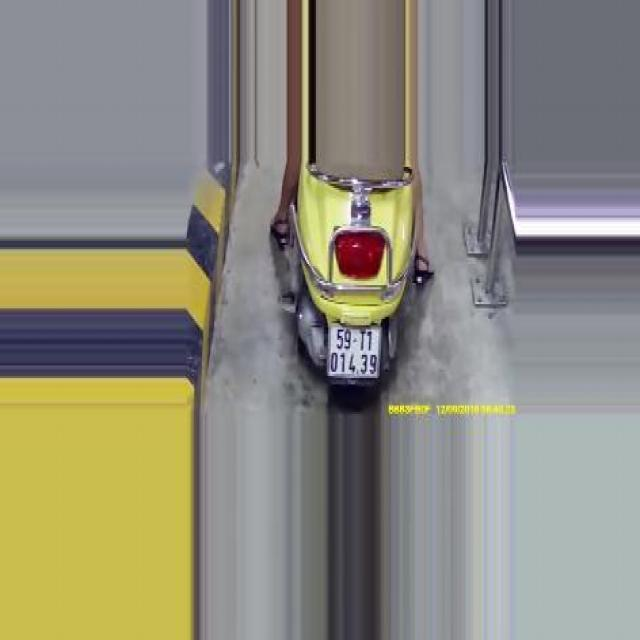License-Plates: (327, 321, 385, 381)
